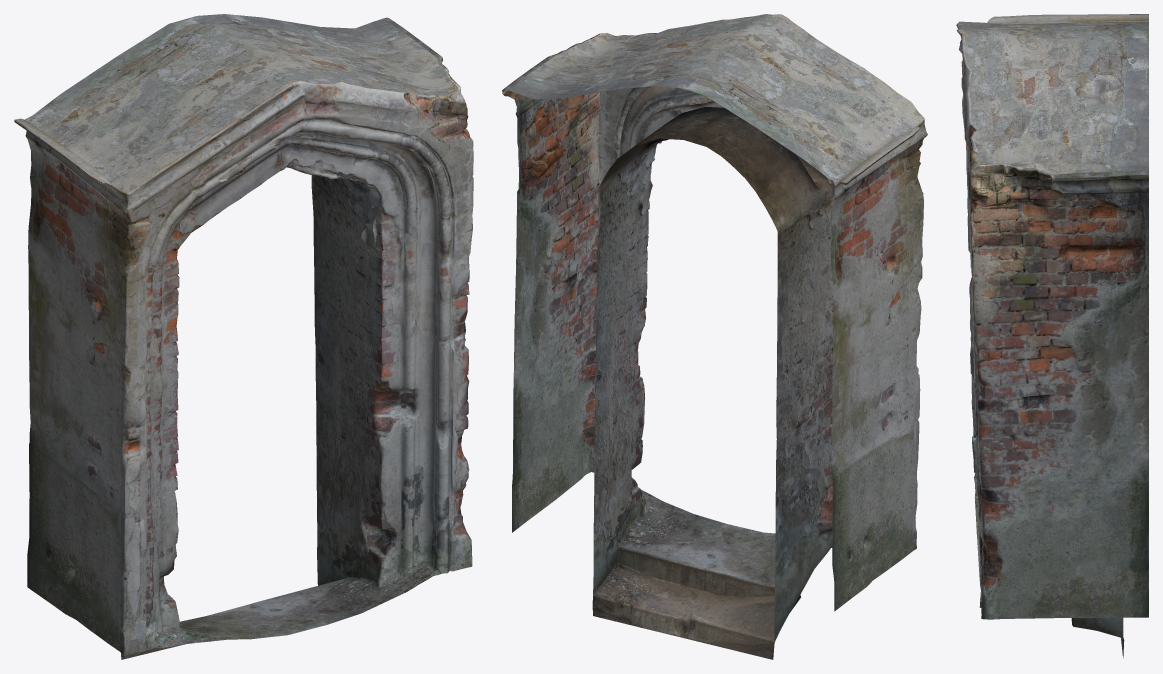
Rendered from SM_CryptEntrance_01_01.fbx.
3 views of the same model, side by side, from view 1: azimuth 30°, elevation 25°; view 2: azimuth 150°, elevation 25°; view 3: azimuth 270°, elevation 25° (orthographic). The views are drawn at different scales.
Parts seen in each view (by area): view 1: sm_CryptEntrance_01_01_LOD0; view 2: sm_CryptEntrance_01_01_LOD0; view 3: sm_CryptEntrance_01_01_LOD0.
Boxes of the visible parts, left/top/right/bottom form: sm_CryptEntrance_01_01_LOD0: left=14, top=14, right=473, bottom=659; sm_CryptEntrance_01_01_LOD0: left=502, top=14, right=927, bottom=659; sm_CryptEntrance_01_01_LOD0: left=956, top=14, right=1148, bottom=658.
Size of the model in its own units: 119 by 250 by 393.
